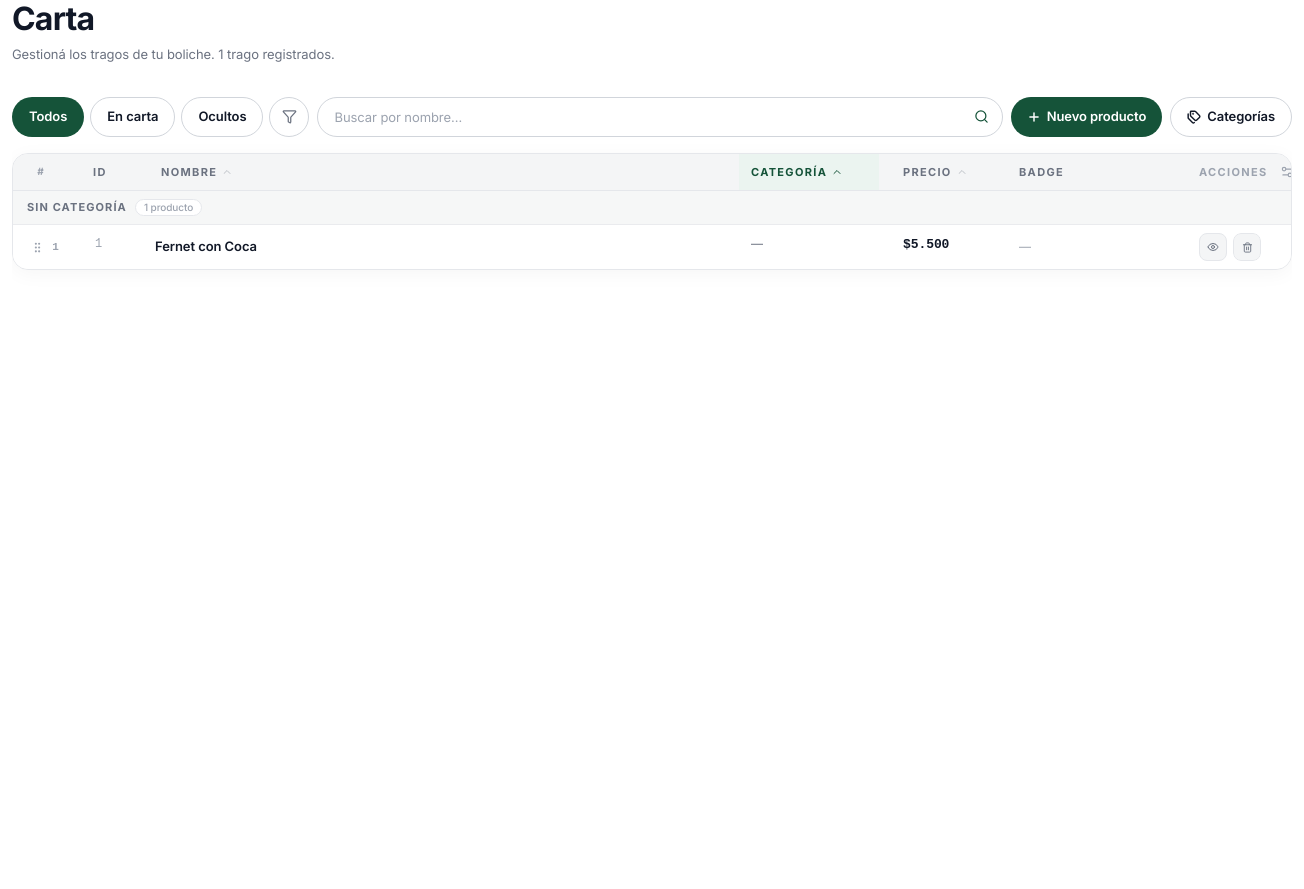
it: CartaSection › edita un trago existente al hacer click en la fila
The width and height of the screenshot is (1304, 889).
Click the text "Fernet con Coca". click: (206, 246)
box: [155,238,257,254]
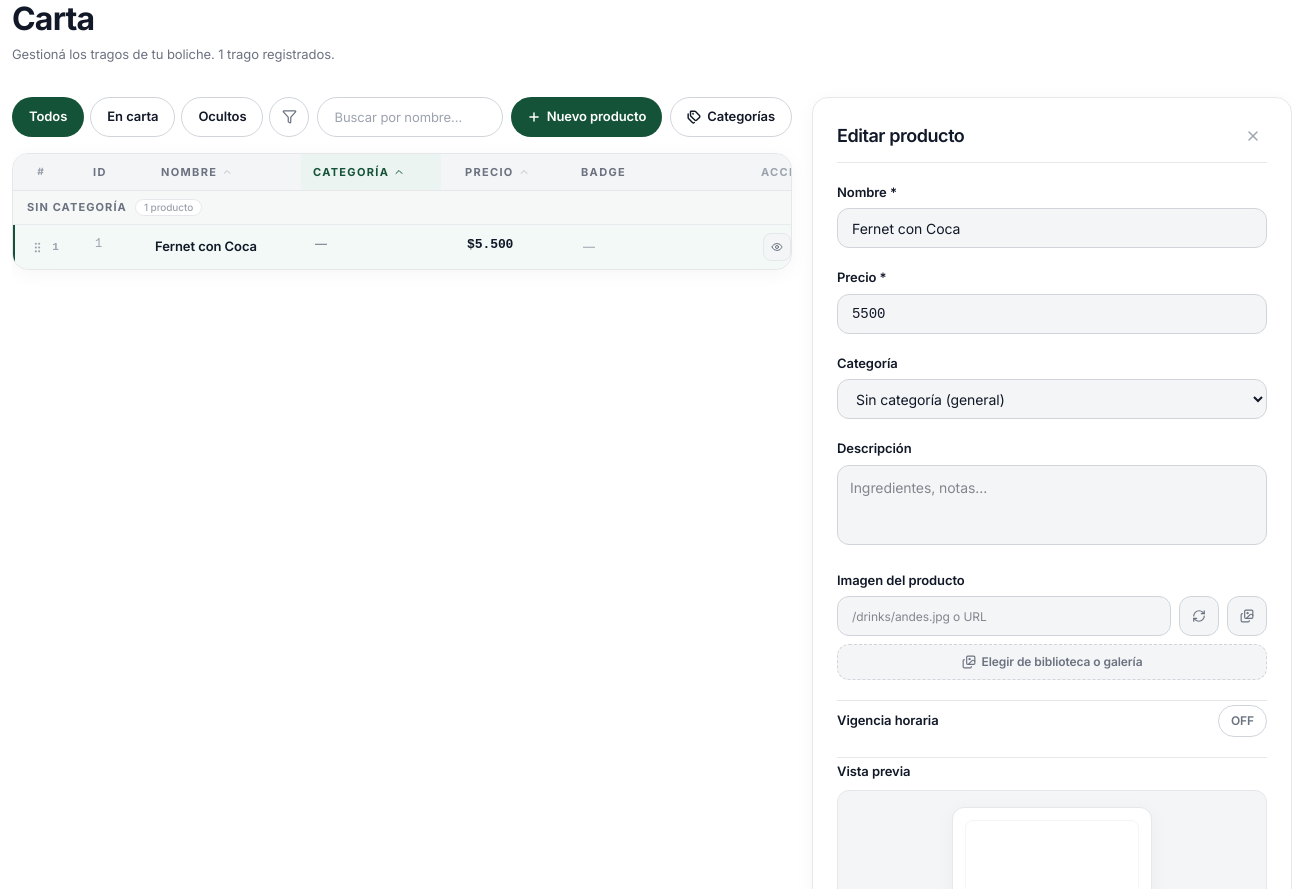
Type "Fernet Branca" into the field with placeholder "Fernet con Coca". click: (1052, 228)
box: [837,208,1267,248]
(page scrolled)
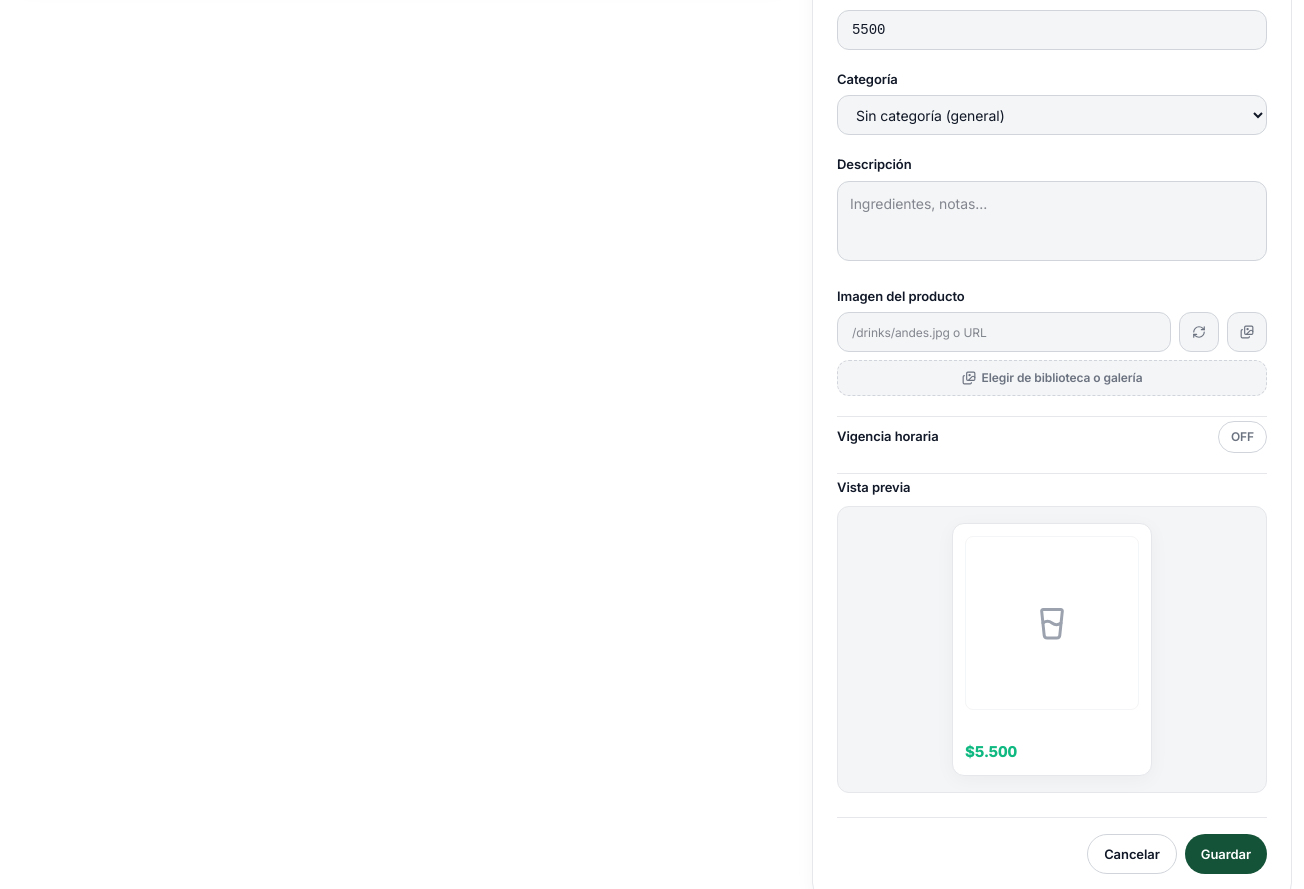
Click the button "Guardar". click: (1226, 854)
box: [1185,834,1267,874]
(page scrolled)
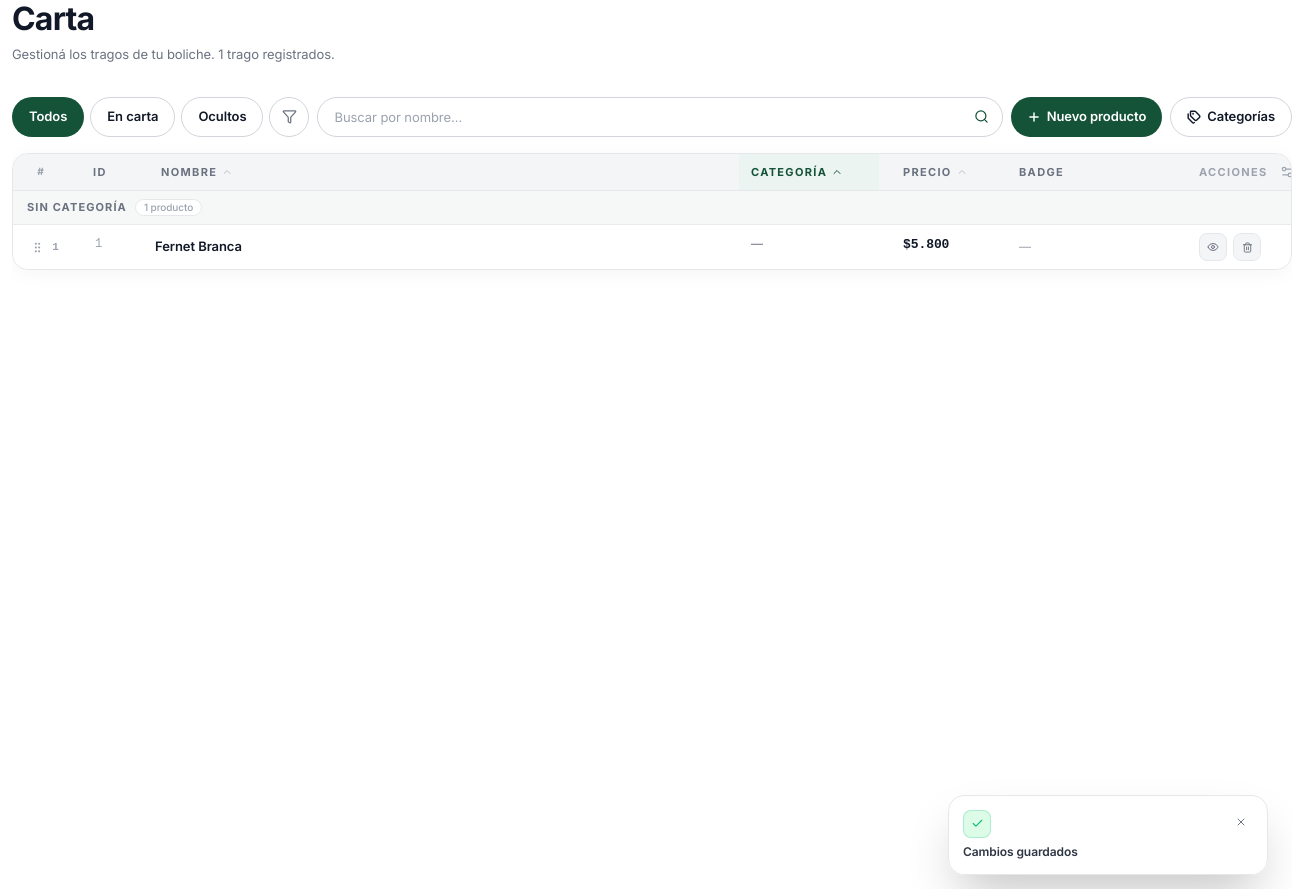
Now the text "Fernet Branca" is shown, box [155,238,242,254]
